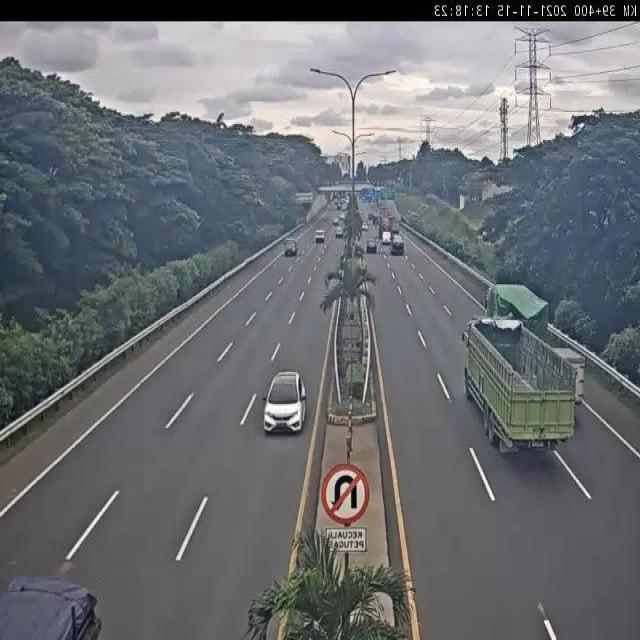Car: (264, 355, 310, 449), (283, 227, 306, 266), (392, 223, 411, 260), (329, 223, 351, 248), (313, 222, 329, 254), (364, 227, 379, 261)
Truck: (460, 286, 574, 478), (466, 256, 556, 338), (562, 346, 601, 410)
